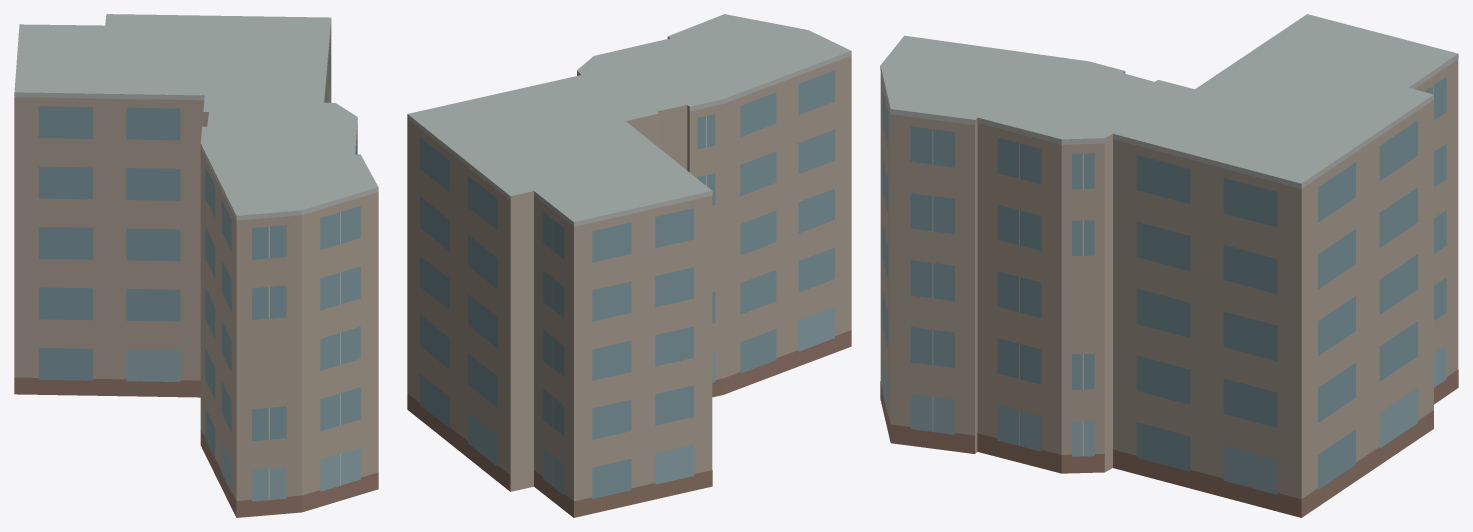
File: survey-upis-33011082.glb
The picture shows the model from 3 angles, left to right: view 1: azimuth 30°, elevation 25°; view 2: azimuth 150°, elevation 25°; view 3: azimuth 270°, elevation 25°; orthographic projection. The views are drawn at different scales.
Visible parts, largest first — view 1: survey-upis-33011082.tmp; view 2: survey-upis-33011082.tmp; view 3: survey-upis-33011082.tmp.
Part boxes in pixels (x1=…): survey-upis-33011082.tmp: x1=14, y1=14, x2=378, y2=517; survey-upis-33011082.tmp: x1=407, y1=14, x2=851, y2=517; survey-upis-33011082.tmp: x1=880, y1=14, x2=1458, y2=517.
Size of the model in its own units: 16.62 by 15.25 by 23.91.
